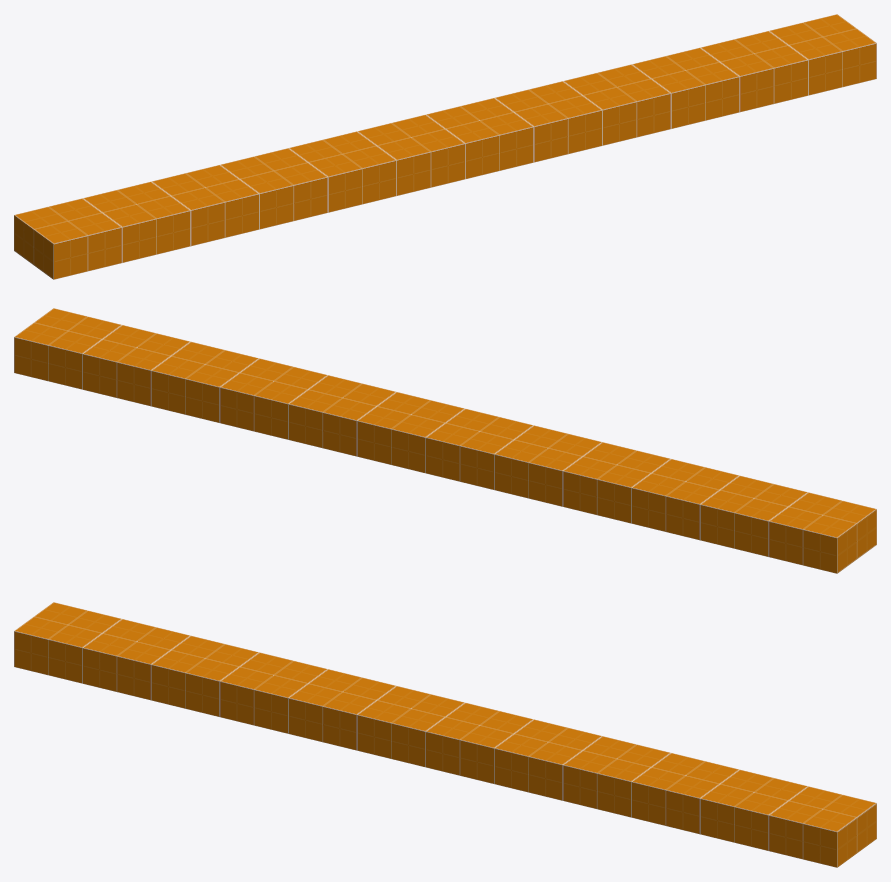
File: Plate2_12x1.obj
3 renders of one model, top to bottom at view 1: azimuth 30°, elevation 25°; view 2: azimuth 150°, elevation 25°; view 3: azimuth 330°, elevation 25°, orthographic.
Visible parts, largest first — view 1: Plate2_12x1_Cube.308; view 2: Plate2_12x1_Cube.308; view 3: Plate2_12x1_Cube.308.
Boxes of the visible parts, x1,y1,x2,y2 form: Plate2_12x1_Cube.308: (14,14,876,279); Plate2_12x1_Cube.308: (14,308,876,573); Plate2_12x1_Cube.308: (14,602,876,867).
Bounding box in the file's own units: 12 × 0.5 × 1.
1 material, 1 textured.
